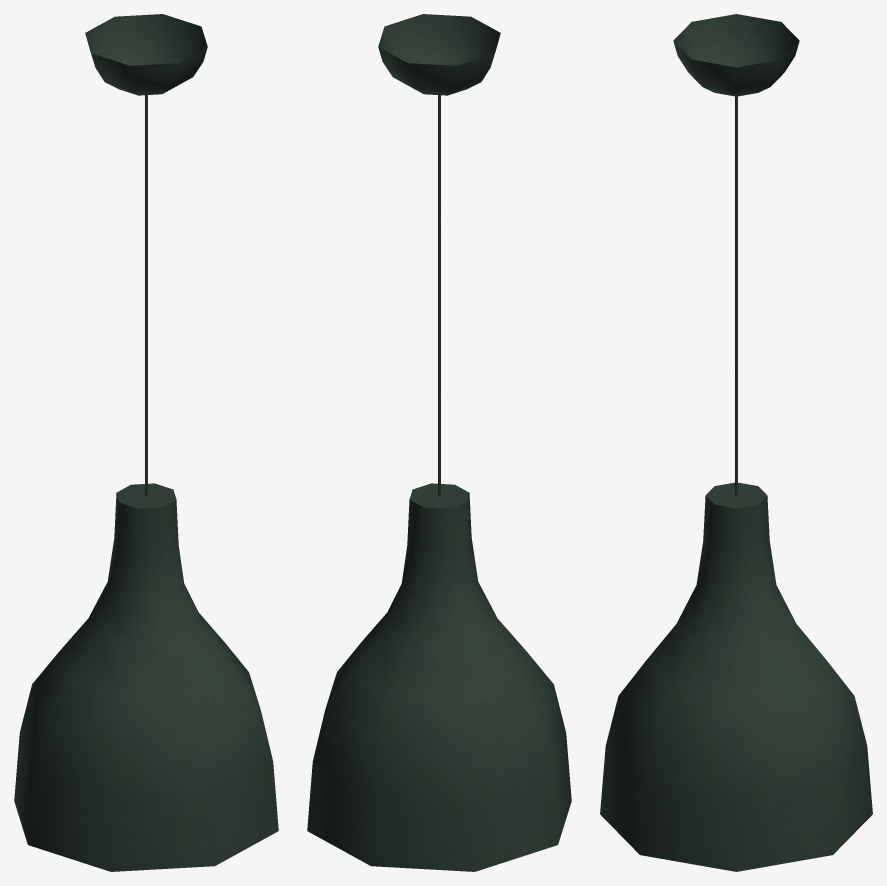
The model's file is LGSeochoB1LightHangCafe.fbx.
The picture shows the model from 3 angles, left to right: view 1: azimuth 30°, elevation 25°; view 2: azimuth 150°, elevation 25°; view 3: azimuth 270°, elevation 25°; orthographic projection.
Visible parts, largest first — view 1: LGSeochoB1LightMetal; view 2: LGSeochoB1LightMetal; view 3: LGSeochoB1LightMetal.
Part boxes in pixels (<box>): LGSeochoB1LightMetal: <box>14,14,278,871</box>; LGSeochoB1LightMetal: <box>307,14,571,871</box>; LGSeochoB1LightMetal: <box>600,14,872,871</box>.
Bounding box in the file's own units: 34.97 × 109 × 34.97.
2 materials, 1 textured.
